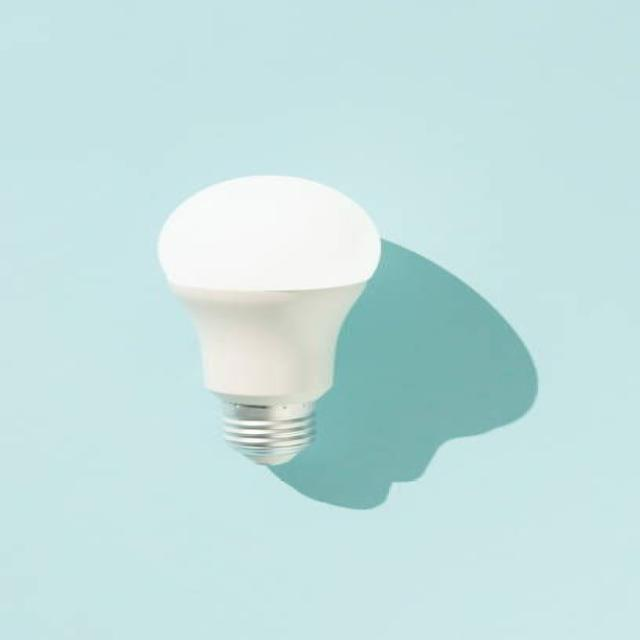electronic: (155, 174, 383, 466)
